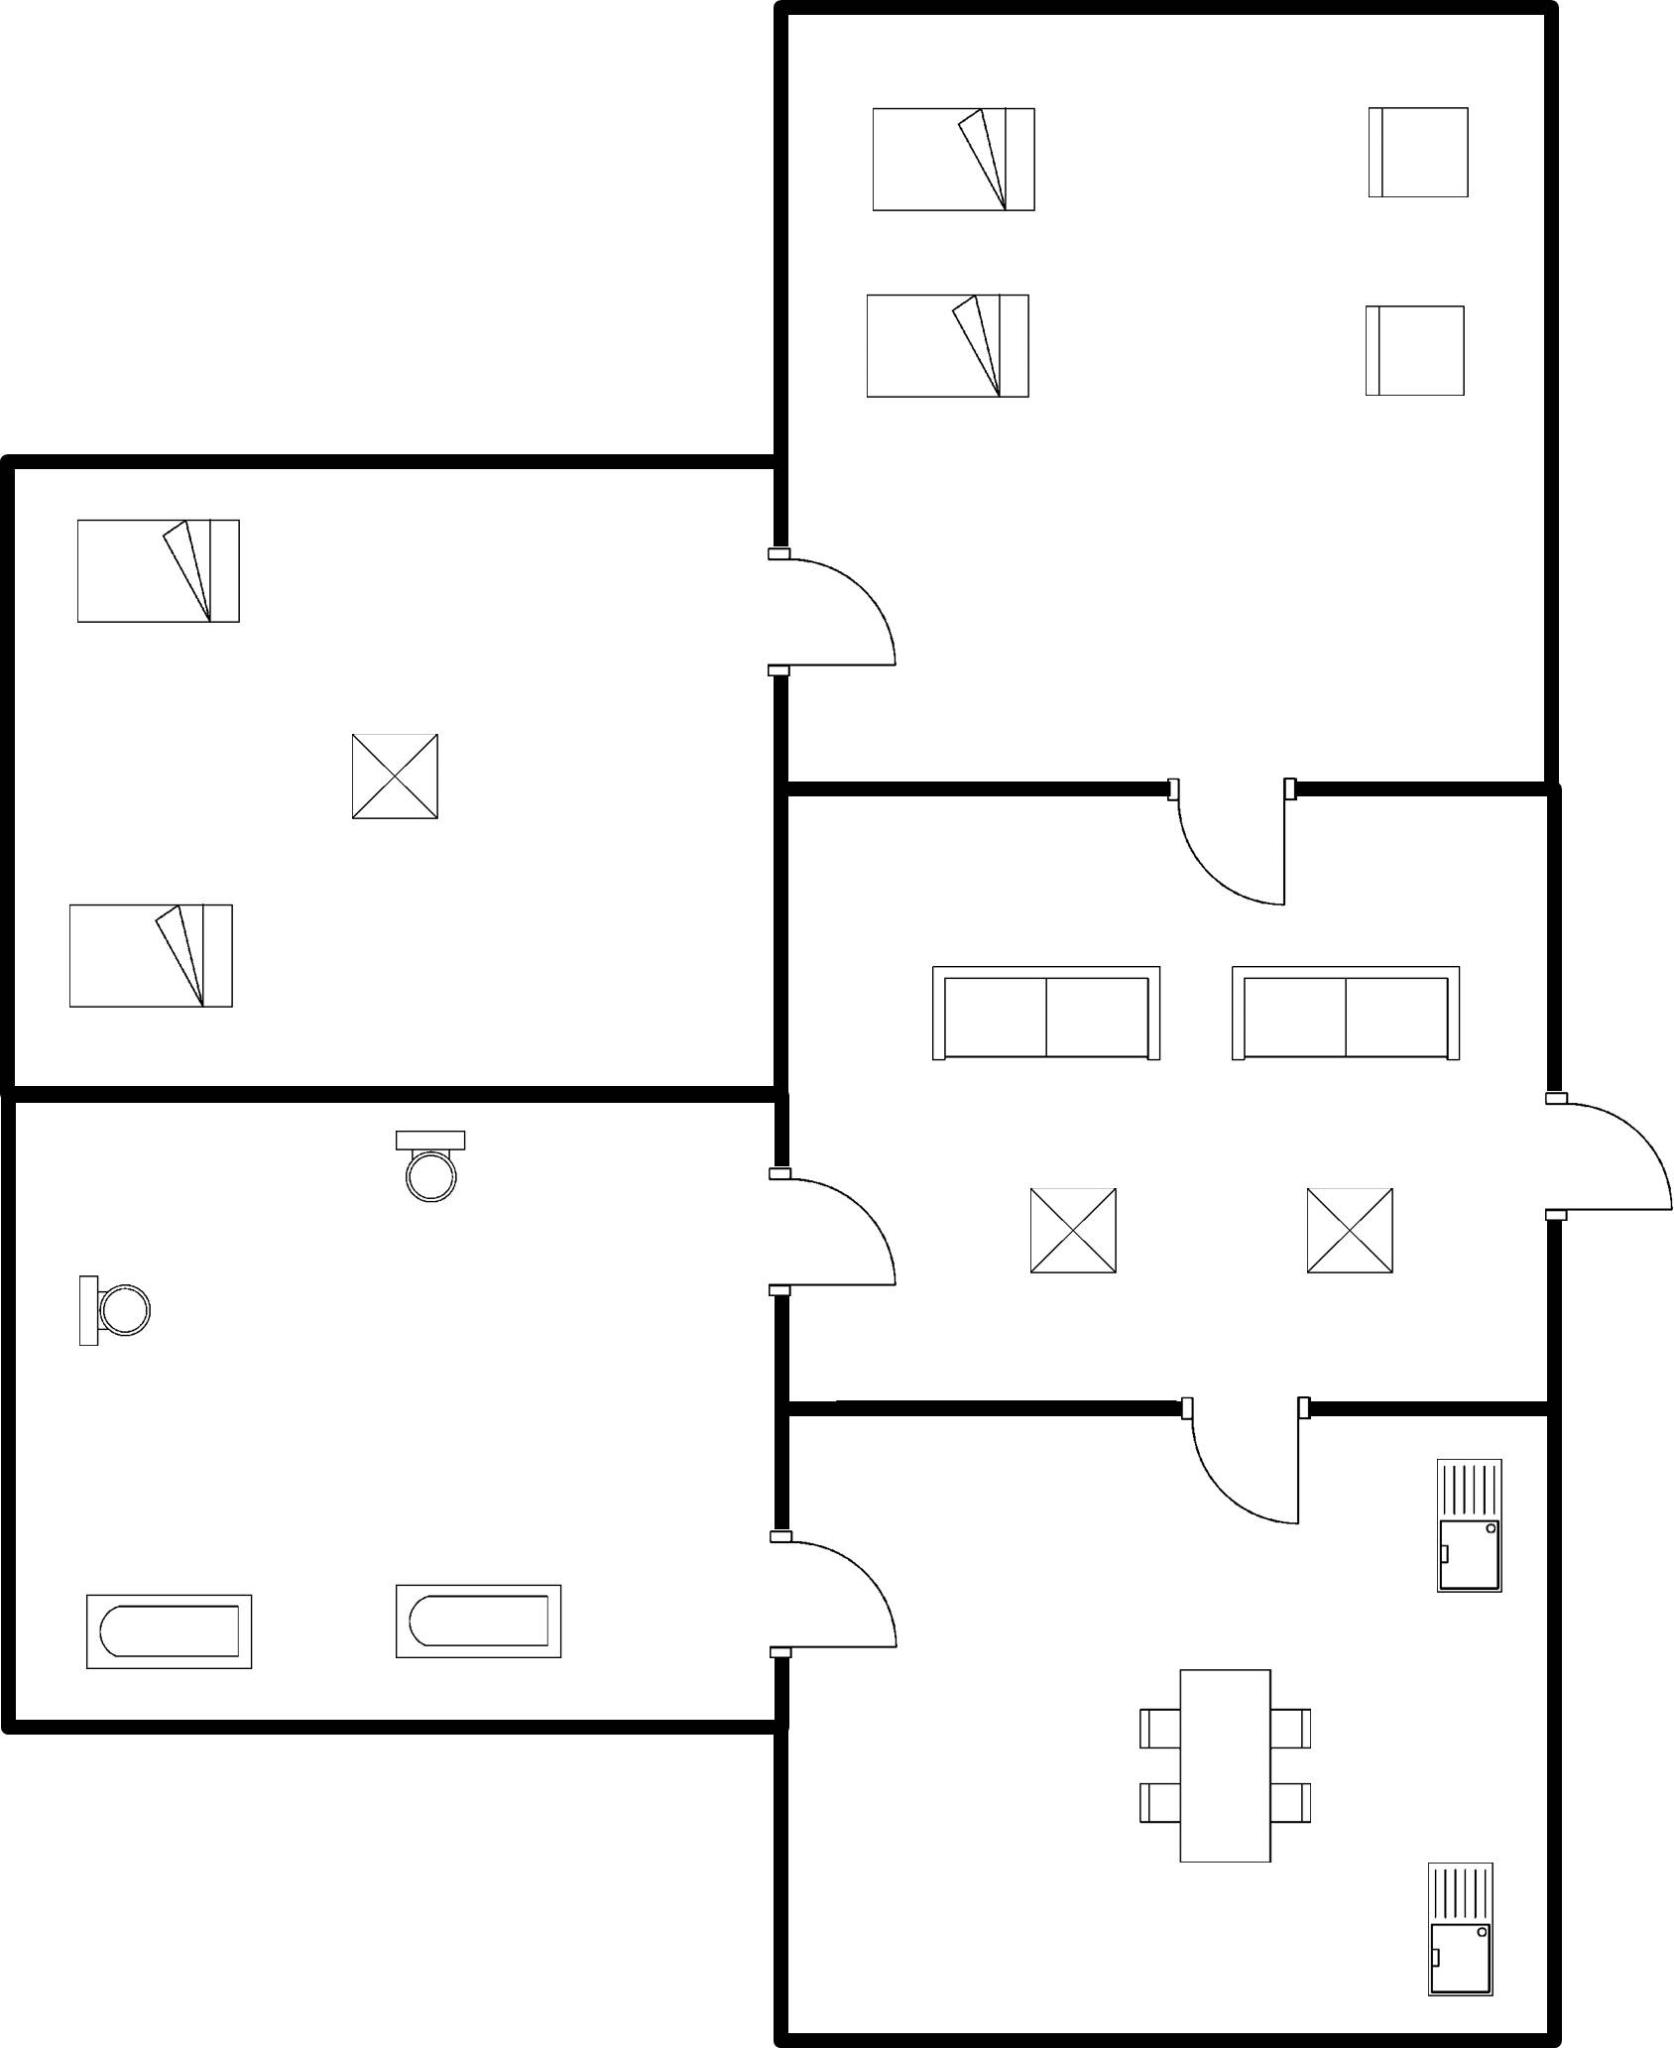bed: (857, 92, 1058, 226), (852, 282, 1043, 412), (56, 891, 248, 1019), (66, 505, 252, 634)
dining_table: (1125, 1653, 1325, 1885)
sink: (1412, 1849, 1507, 2007), (1427, 1437, 1519, 1601)
sofa: (1216, 944, 1480, 1078), (919, 951, 1181, 1072)
toilet: (63, 1262, 162, 1362), (383, 1121, 476, 1215)
tub: (379, 1572, 580, 1674), (71, 1582, 269, 1679)
